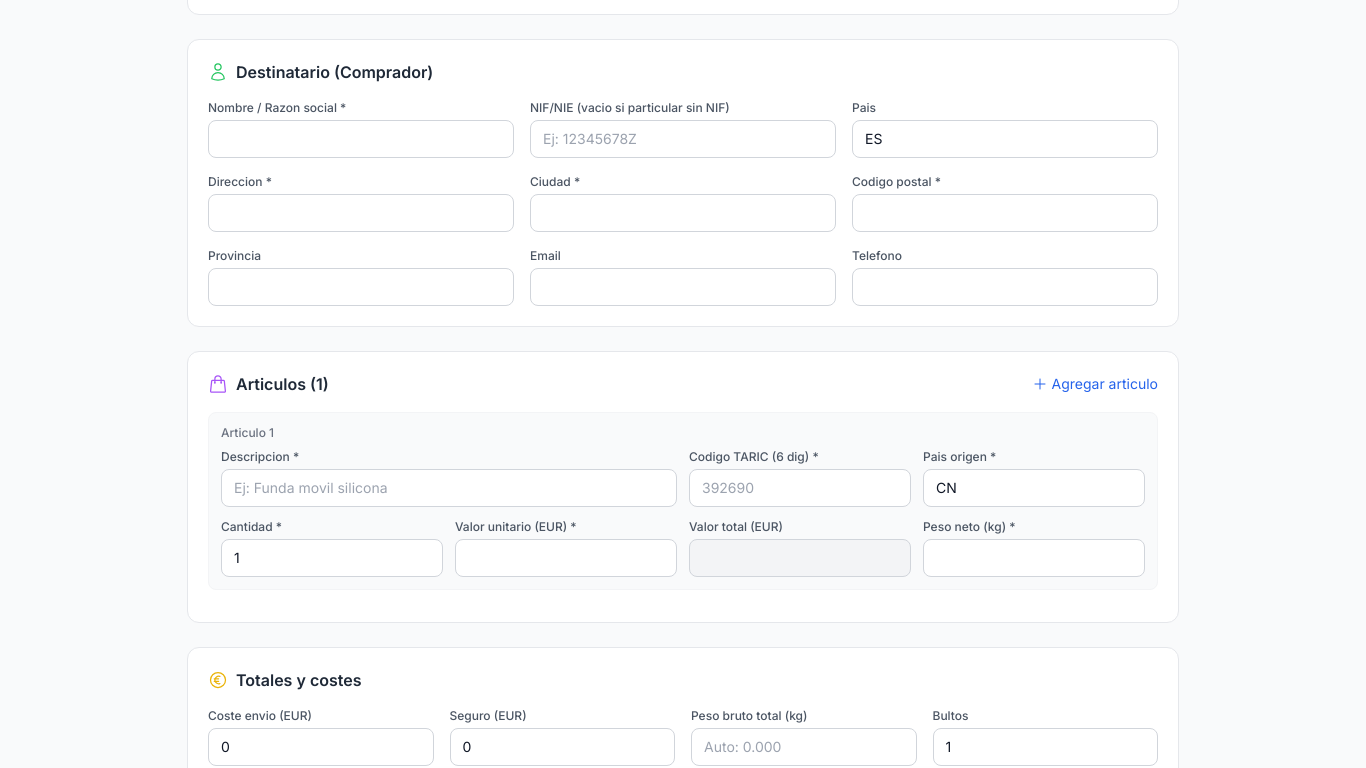
Test: H7DirectForm › Items - gestión y auto-cálculo › agrega un nuevo item al hacer clic en Agregar articulo
The image size is (1366, 768).
(page scrolled)
Check: the text "Articulo 1" is shown, box x1=221 y1=425 x2=274 y2=441
What coordinates should you click on to do the following:
click the button "Agregar articulo"
I would click on:
 (1095, 384)
Its box is x1=1032 y1=374 x2=1158 y2=394.
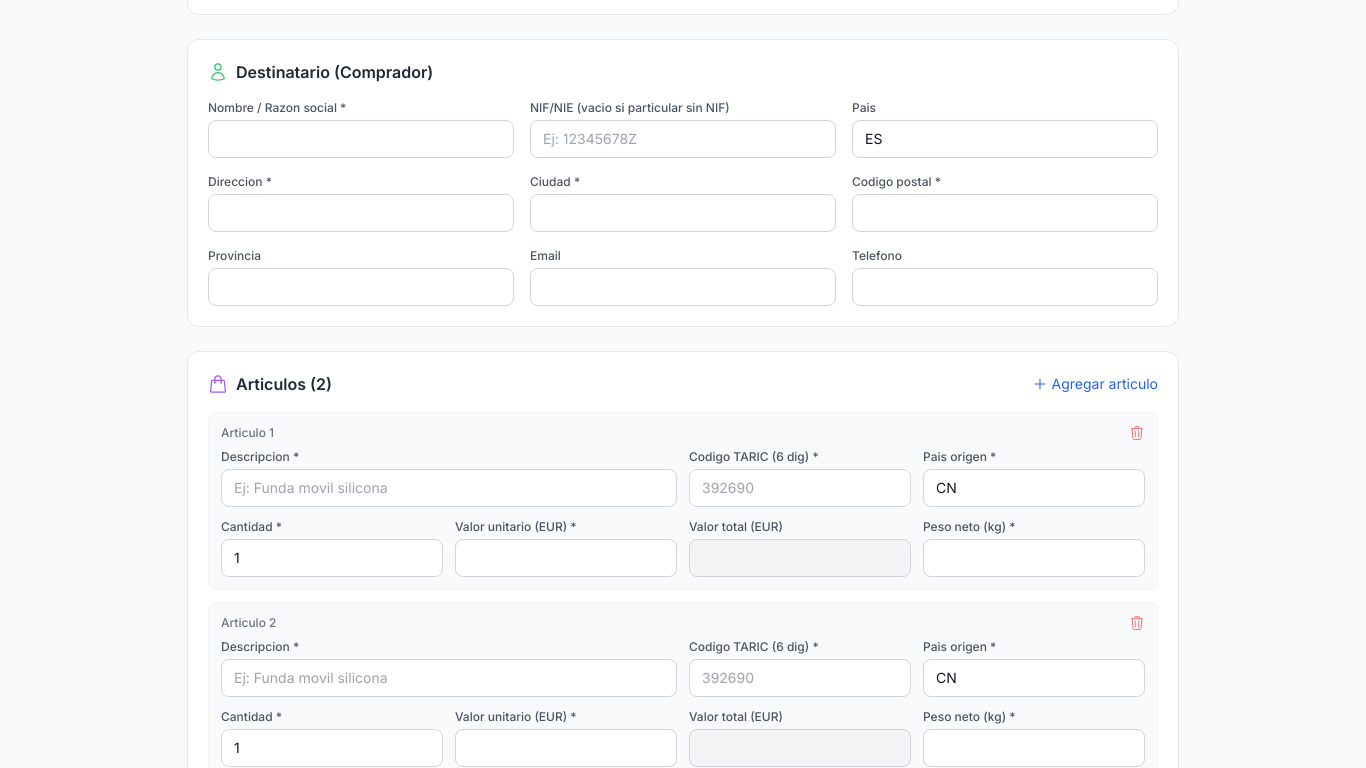
Check: the text "Articulo 2" is shown, box x1=221 y1=615 x2=276 y2=631
Check: the heading "Articulos (2)" is shown, box x1=208 y1=372 x2=332 y2=396
